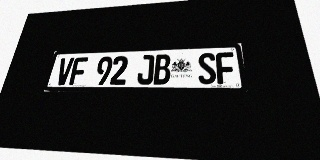2: (110, 56, 128, 85)
9: (94, 56, 113, 85)
B: (153, 54, 171, 85)
F: (215, 52, 236, 84), (69, 57, 88, 85)
J: (137, 55, 154, 85)
S: (198, 53, 217, 84)
V: (55, 58, 74, 85)
